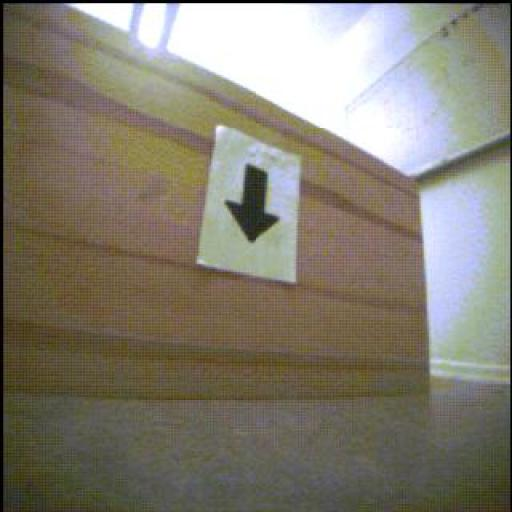Arrow: (227, 166, 280, 244)
